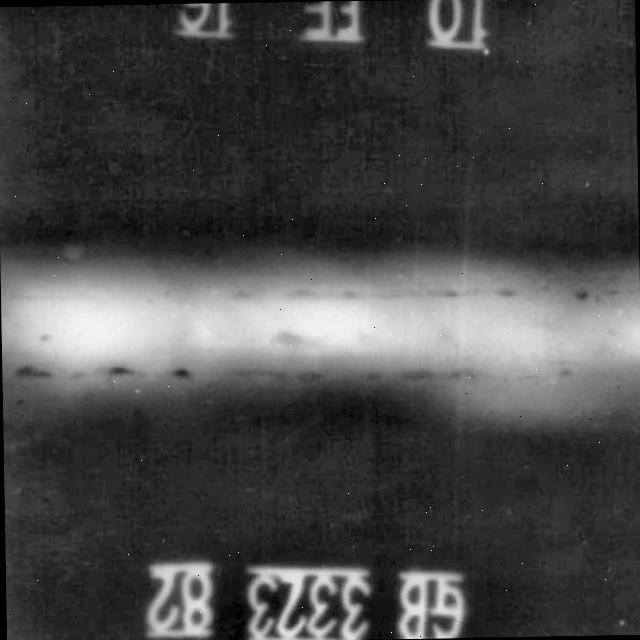LoP-LoF: (4, 333, 640, 412), (3, 269, 640, 333)
